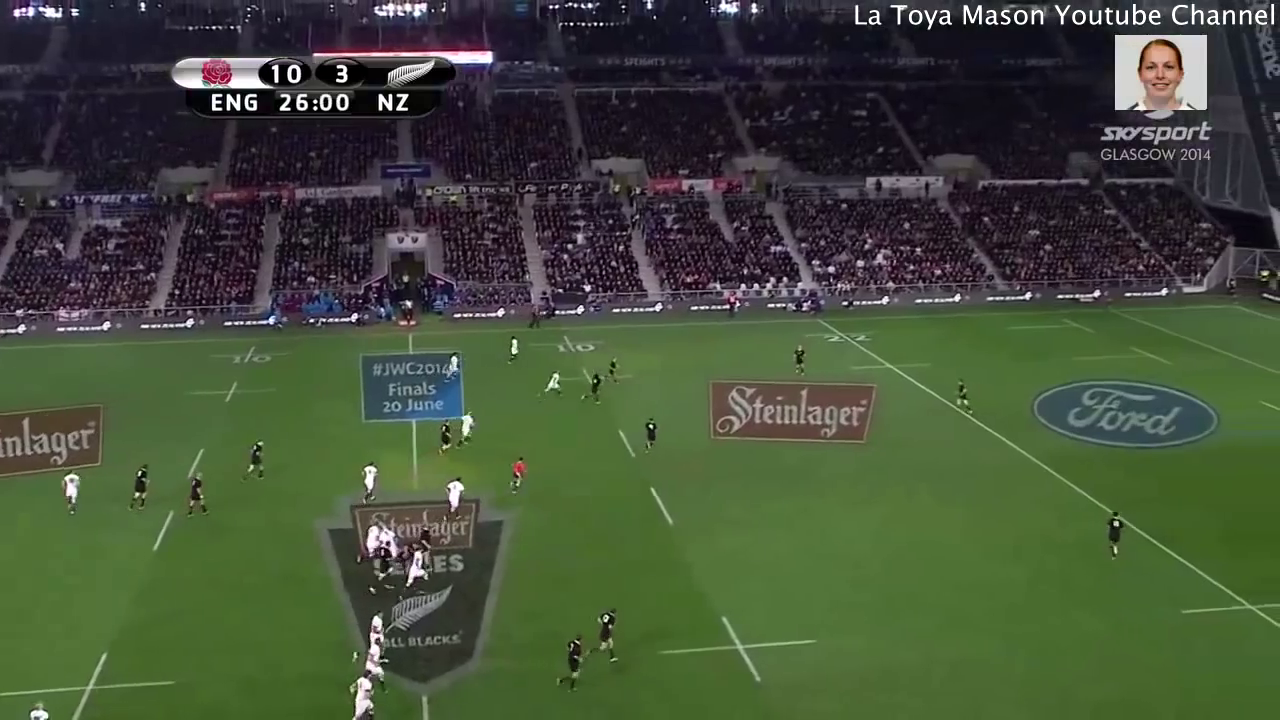10_metre: (1, 647, 180, 720), (651, 613, 822, 686), (183, 377, 280, 407), (206, 342, 296, 371), (522, 332, 613, 358)
player: (587, 606, 623, 669), (553, 633, 588, 697), (1100, 503, 1134, 567), (123, 461, 156, 517), (183, 471, 218, 521), (440, 474, 472, 524), (947, 372, 980, 420), (368, 539, 394, 599), (57, 467, 87, 517), (356, 460, 383, 509), (786, 340, 818, 380), (240, 439, 268, 483), (406, 547, 433, 592), (453, 408, 481, 451), (433, 416, 458, 461), (504, 452, 530, 494), (579, 372, 609, 405), (537, 370, 567, 402), (641, 413, 664, 451), (349, 670, 377, 699), (603, 350, 623, 390), (364, 634, 384, 673), (441, 352, 465, 380), (506, 333, 524, 367), (23, 698, 50, 720), (366, 610, 386, 634)
